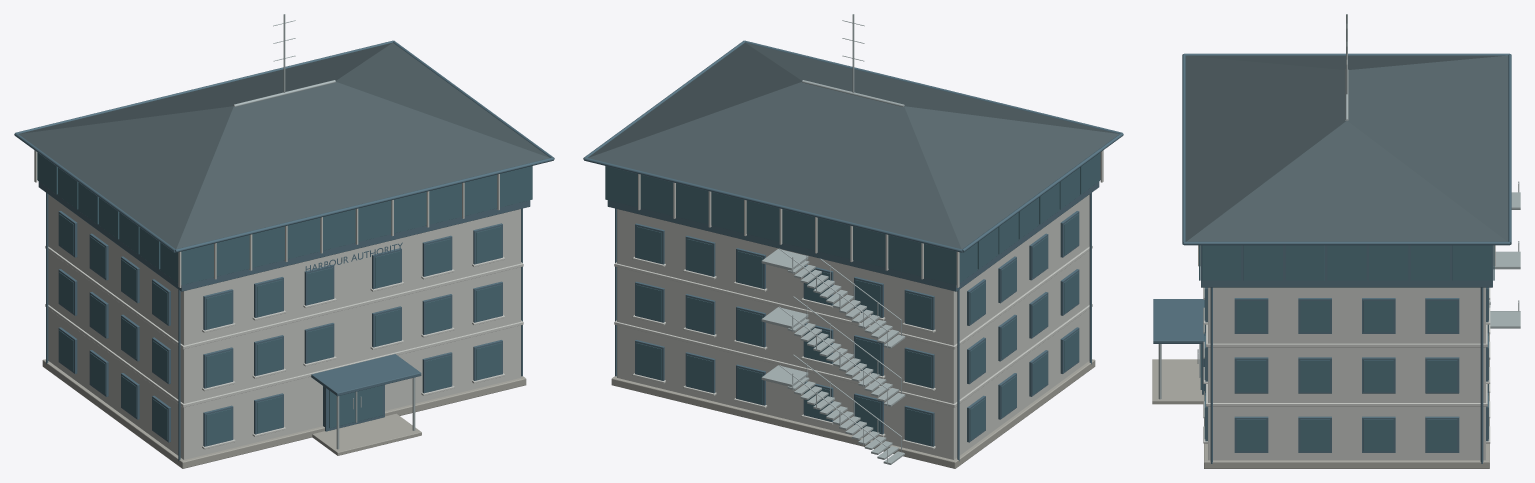
The model's file is harbour_authority_20m.glb.
3 renders of one model, left to right at view 1: azimuth 30°, elevation 25°; view 2: azimuth 150°, elevation 25°; view 3: azimuth 270°, elevation 25°, orthographic. The views are drawn at different scales.
Parts seen in each view (by area): view 1: harbour_authority_20m; view 2: harbour_authority_20m; view 3: harbour_authority_20m.
Boxes of the visible parts, x1,y1,x2,y2 form: harbour_authority_20m: (14, 14, 554, 468); harbour_authority_20m: (583, 14, 1123, 468); harbour_authority_20m: (1152, 14, 1520, 468).
Bounding box in the file's own units: 22.58 × 20.5 × 18.55.
